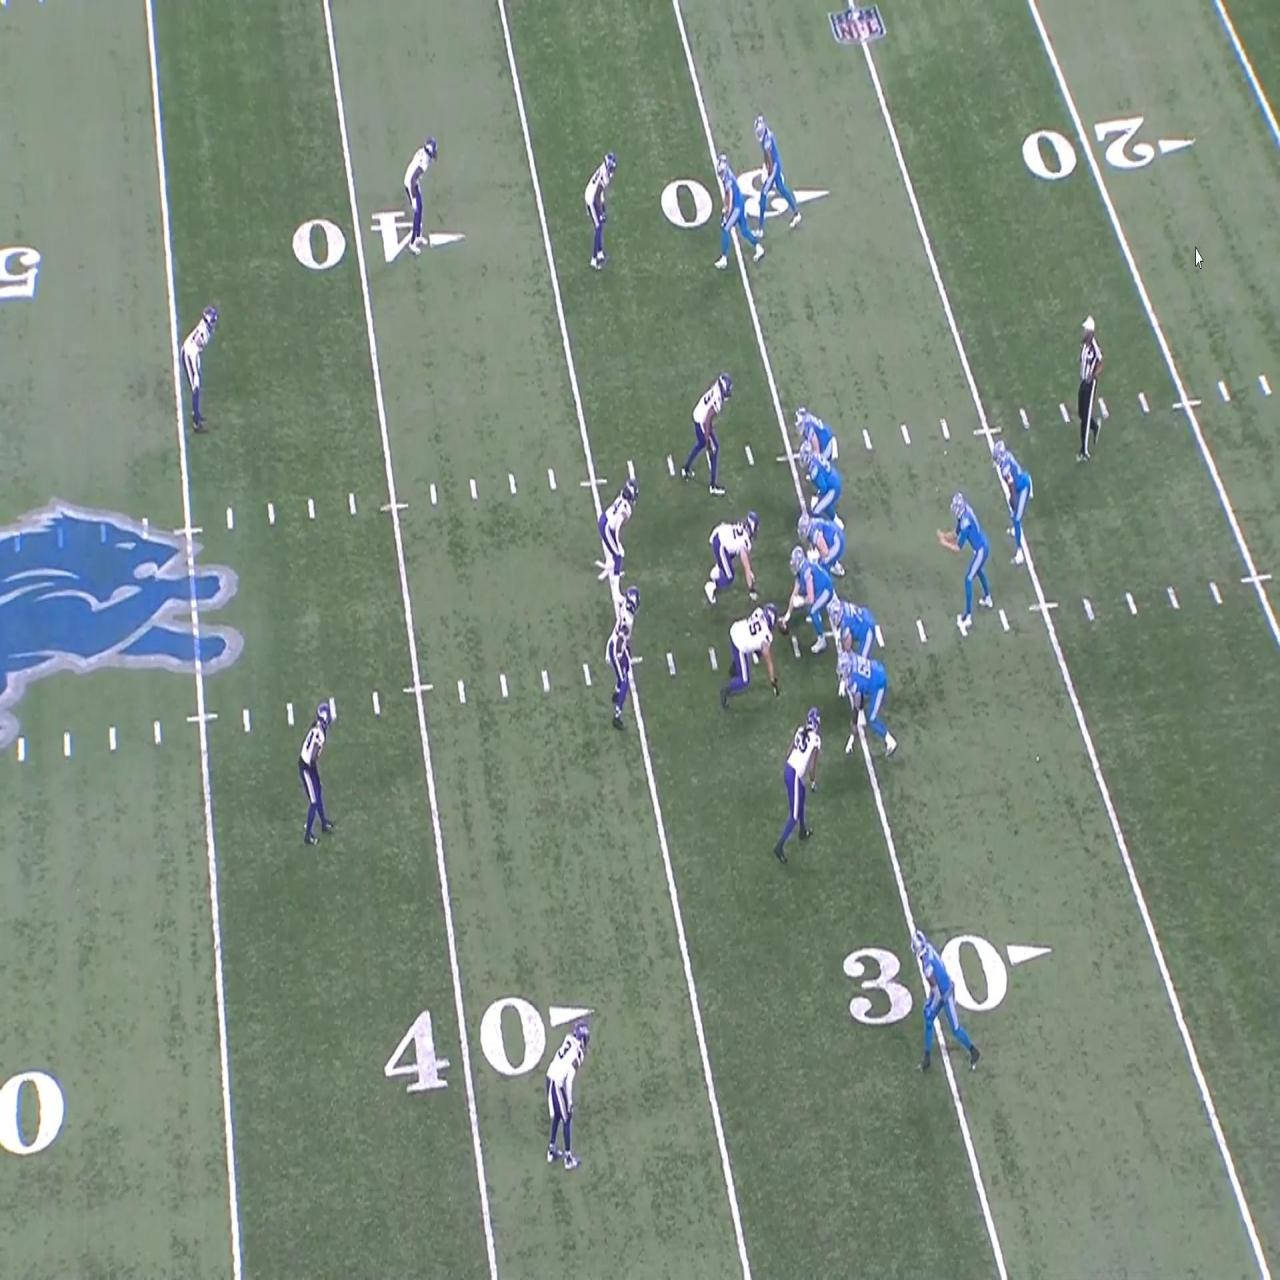20R: (1022, 118, 1196, 182)
30R: (843, 934, 1052, 1026), (659, 166, 830, 227)
40R: (384, 993, 595, 1095), (292, 212, 467, 270)
50: (0, 247, 41, 301)
